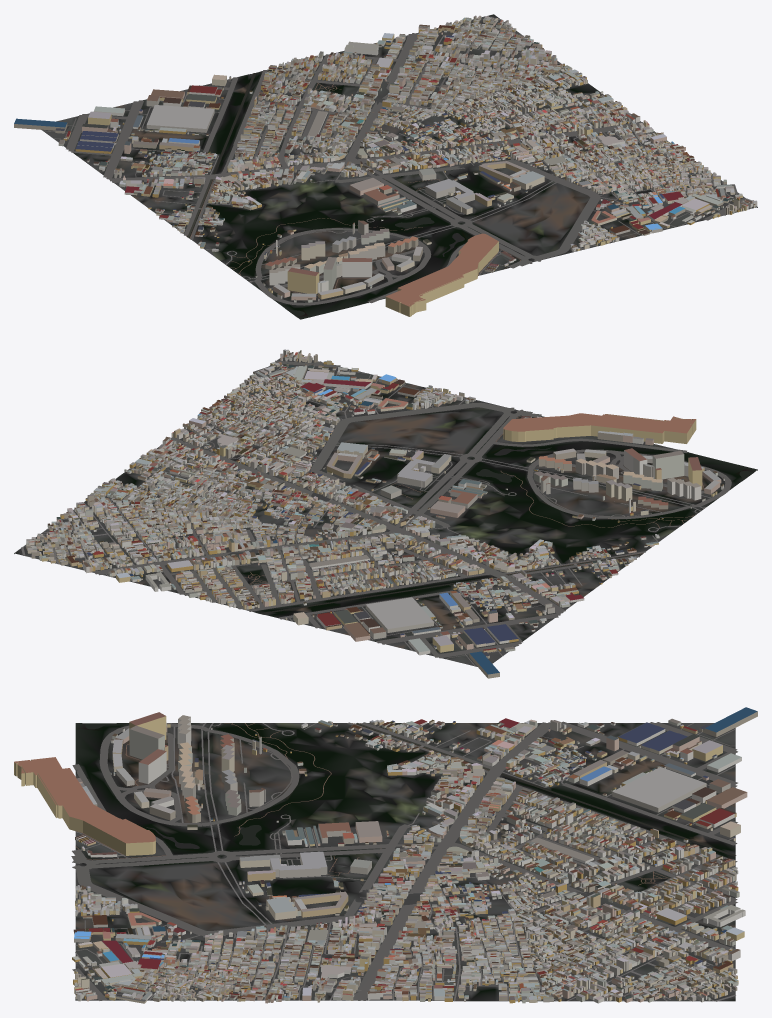
3 renders of one model, top to bottom at view 1: azimuth 30°, elevation 25°; view 2: azimuth 150°, elevation 25°; view 3: azimuth 270°, elevation 25°, orthographic. The views are drawn at different scales.
Parts seen in each view (by area): view 1: buildings, ground, roads, water; view 2: buildings, ground, roads, water; view 3: buildings, ground, roads, water.
Boxes of the visible parts, x1=… form: buildings: x1=14, y1=15, x2=757, y2=316; ground: x1=41, y1=14, x2=757, y2=319; roads: x1=43, y1=16, x2=745, y2=305; water: x1=187, y1=72, x2=464, y2=316; buildings: x1=26, y1=349, x2=724, y2=678; ground: x1=14, y1=355, x2=757, y2=666; roads: x1=21, y1=360, x2=731, y2=666; water: x1=259, y1=447, x2=753, y2=614; buildings: x1=14, y1=707, x2=757, y2=1003; ground: x1=75, y1=723, x2=735, y2=1001; roads: x1=71, y1=721, x2=737, y2=1001; water: x1=85, y1=723, x2=736, y2=856.
Size of the model in its own units: 1470 by 65.82 by 1579.
